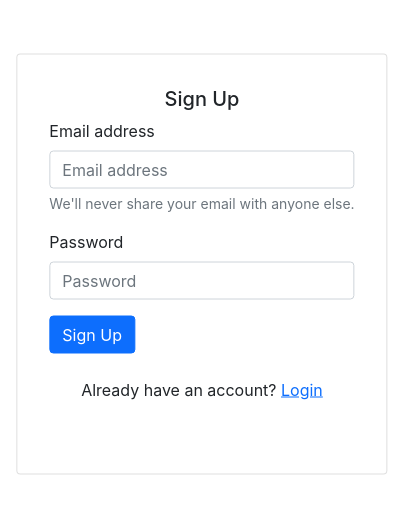
Test: <Signup /> › expect a error
Click the button "Sign Up". click: (92, 334)
box: x1=49 y1=316 x2=135 y2=354
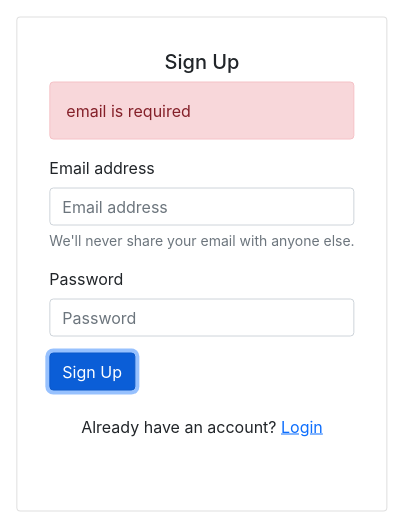
Expected: the text "email is required" is shown, x1=49 y1=82 x2=355 y2=140
